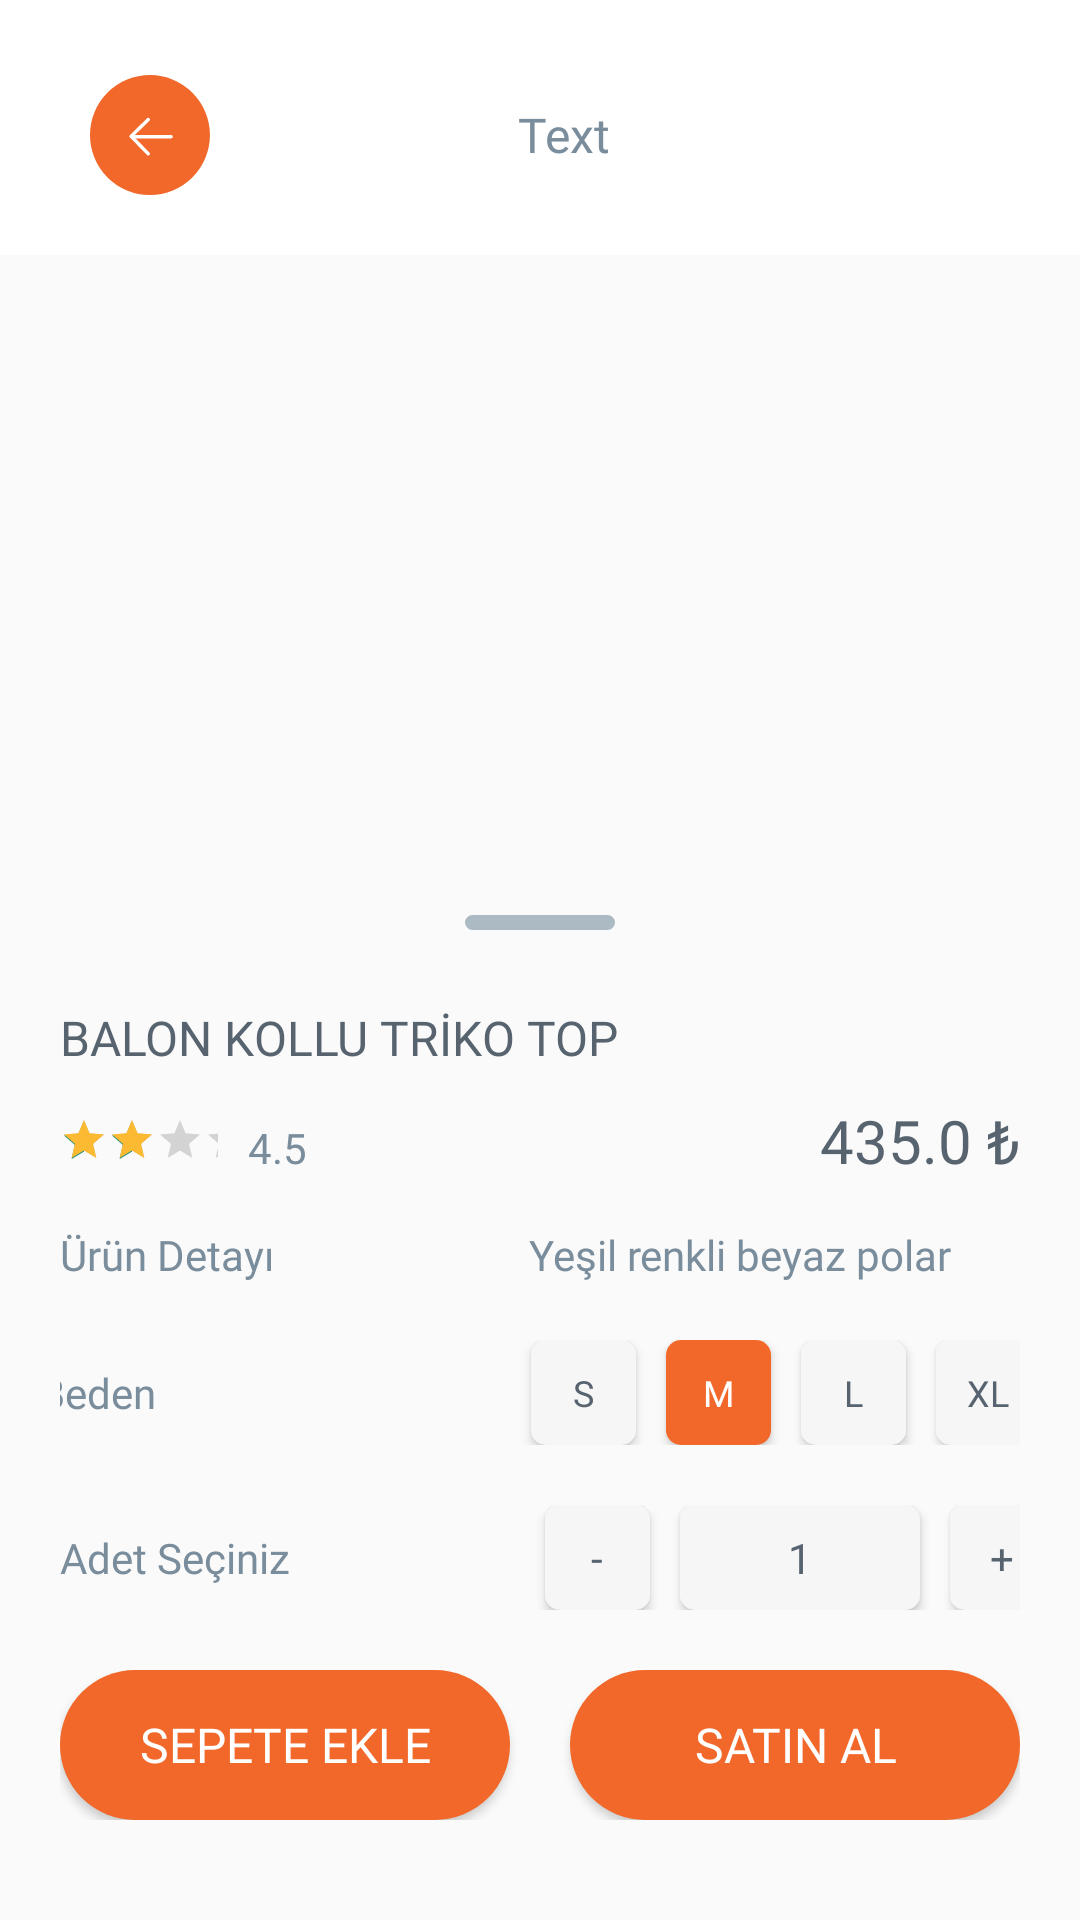

Icons on this 1080 × 1920 Android screen, each with the point to tap as point (x, y):
back: point (150, 135)
